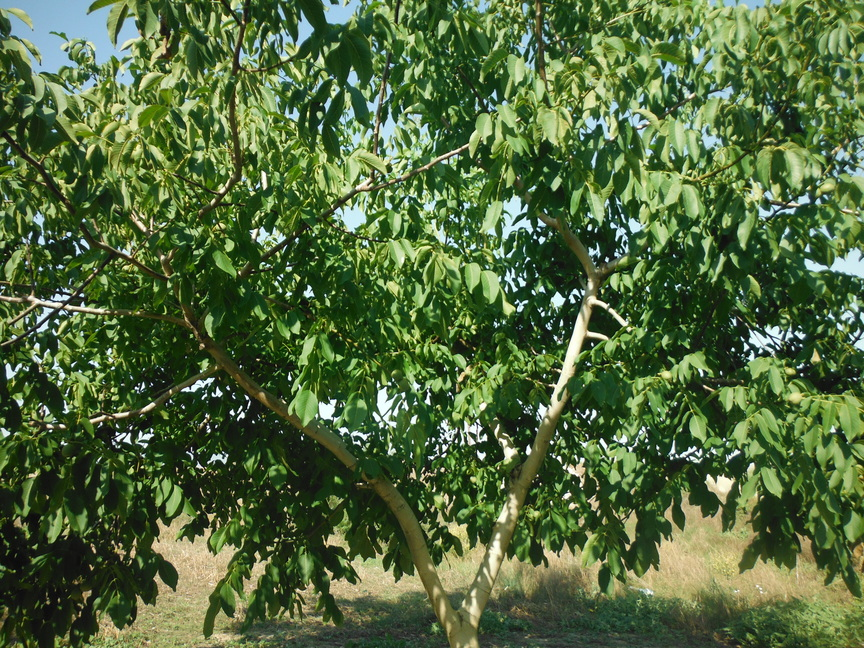walnut: (59, 441, 78, 460), (786, 389, 804, 408), (807, 184, 824, 203), (68, 586, 84, 602), (79, 576, 94, 593), (820, 180, 836, 195), (389, 366, 404, 382), (782, 366, 799, 378), (398, 378, 410, 393), (162, 60, 174, 74), (213, 220, 227, 232), (530, 508, 543, 520), (468, 473, 479, 486)
